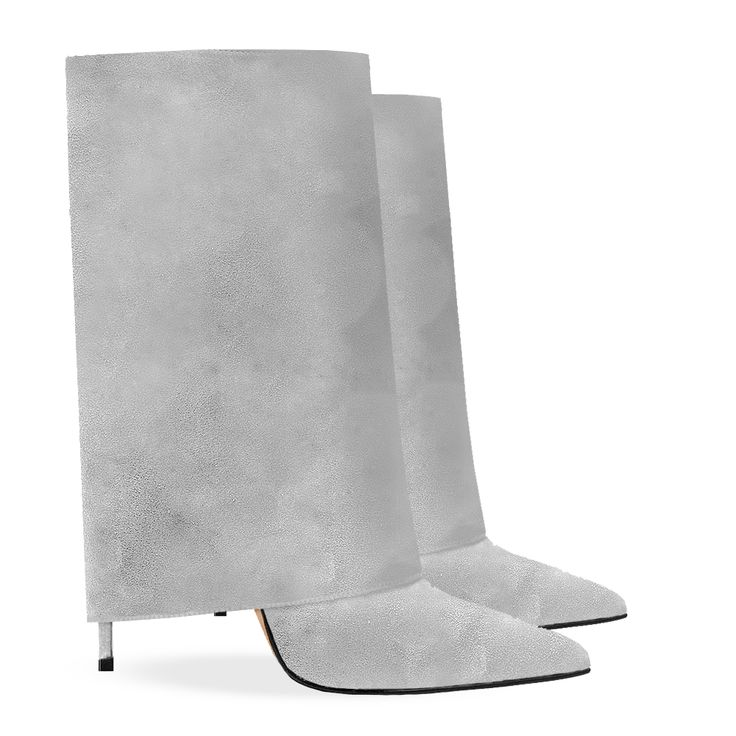gamuza: (66, 49, 628, 696)
